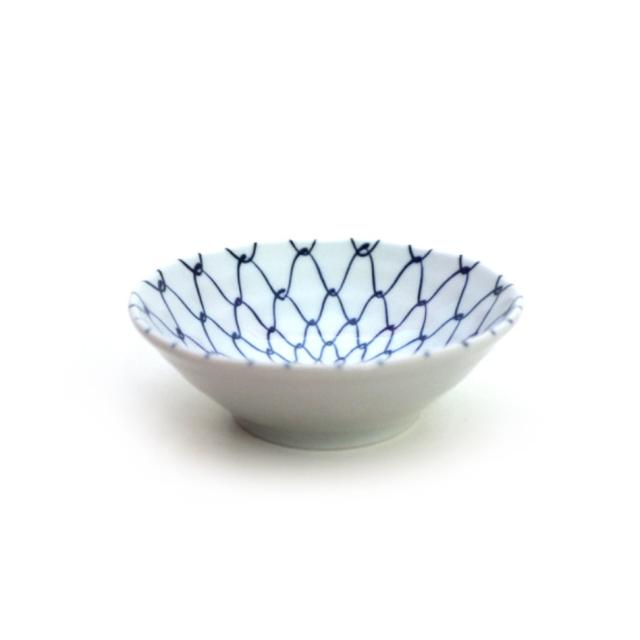recyclable: (106, 222, 534, 467)
